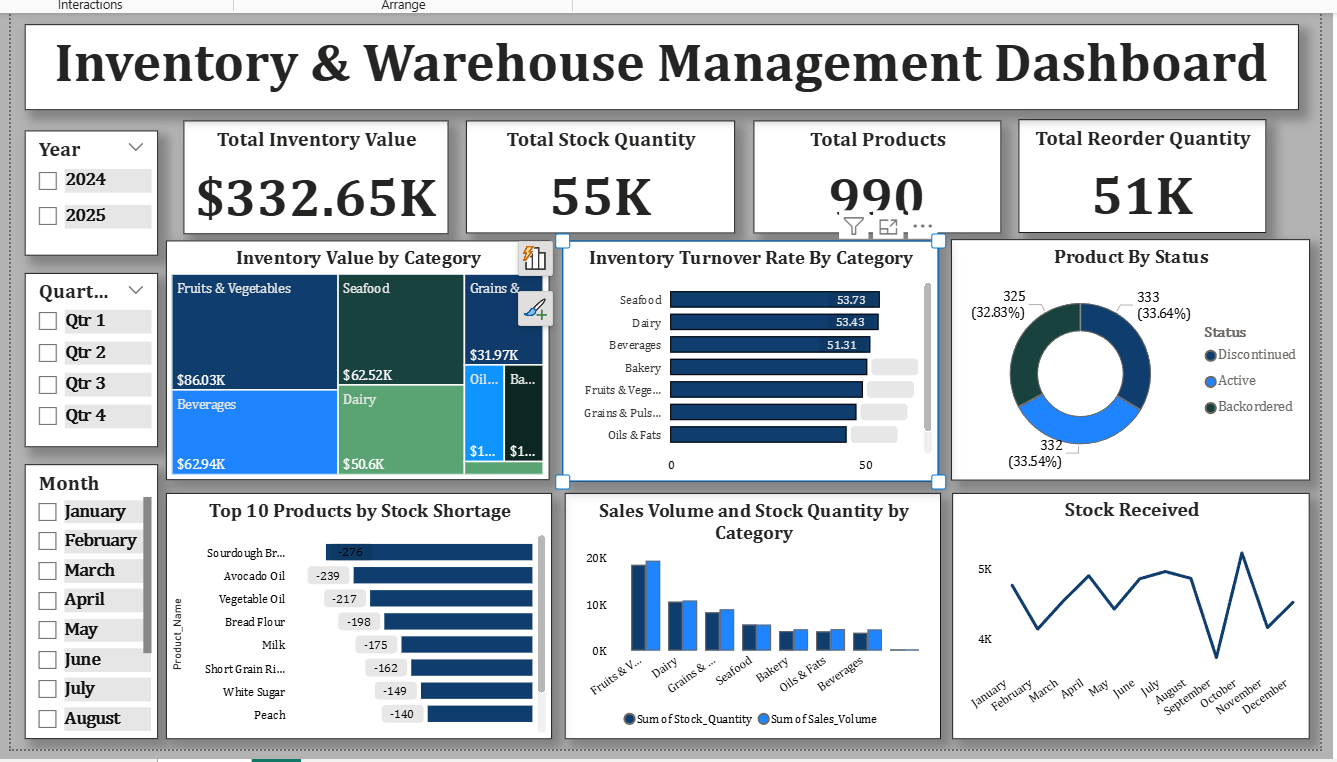

What the dashboard file says about the page in this screenshot:
{"tool":"powerbi","page":{"name":"Page 1","canvas":[1280,720],"ordinal":0},"visuals":[{"type":"card","title":"Total Inventory Value","fields":{"Values":["grocery data.Total Inventory Value 1"]},"box":[168.8,105.2,259.2,111.3],"z":0},{"type":"card","title":"Total Products","fields":{"Values":["grocery data.Total_Products"]},"box":[726,105.2,242.1,110.1],"z":1000},{"type":"card","title":"Total Reorder Quantity","fields":{"Values":["grocery data.Total_Reorder_Quantity"]},"box":[985.6,103.9,242.1,111.3],"z":2000},{"type":"card","title":"Total Stock Quantity","fields":{"Values":["grocery data.Total_Stock_Quantity"]},"box":[445.5,105.2,262.9,110.1],"z":3000},{"type":"textbox","box":[13.5,11,1246.1,84.4],"z":4000},{"type":"slicer","fields":{"Values":["grocery data.Date_Received.Variation.Date Hierarchy.Month"]},"box":[13.8,441.2,130,268.8],"z":5000},{"type":"slicer","fields":{"Values":["grocery data.Date_Received.Variation.Date Hierarchy.Quarter"]},"box":[13.8,254.4,130,170],"z":6000},{"type":"slicer","fields":{"Values":["grocery data.Date_Received.Variation.Date Hierarchy.Year"]},"box":[13.8,115,130,122.5],"z":7000},{"type":"donutChart","title":" Product By Status","fields":{"Category":["grocery data.Status"],"Y":["CountNonNull(grocery data.Product_Name)"]},"box":[919.6,221.3,351,236],"z":8000},{"type":"treemap","title":" Inventory Value by Category","fields":{"Values":["Sum(grocery data.Inventory_Value)"],"Group":["grocery data.Catagory"]},"box":[151.6,222.6,375.4,234.8],"z":9000},{"type":"clusteredColumnChart","title":"Sales Volume and  Stock Quantity by Category","fields":{"Category":["grocery data.Catagory"],"Y":["Sum(grocery data.Stock_Quantity)","Sum(grocery data.Sales_Volume)"]},"box":[541.1,469.6,368.1,240.9],"z":10000},{"type":"barChart","title":" Inventory Turnover Rate By Category","fields":{"Category":["grocery data.Catagory"],"Y":["Avg(grocery data.Inventory_Turnover_Rate)"]},"box":[539.3,222.6,368.1,236],"z":11000},{"type":"clusteredBarChart","title":"Top 10 Products by Stock Shortage","fields":{"Category":["grocery data.Product_Name"],"Y":["grocery data.Stock_Gap"]},"box":[151.6,469.6,377.9,240.9],"z":12000},{"type":"lineChart","title":"Stock Received ","fields":{"Category":["grocery data.Date_Received.Variation.Date Hierarchy.Month"],"Y":["Sum(grocery data.Stock_Quantity)"]},"box":[920.8,469.6,349.7,240.9],"z":13000}]}

Visuals, with their boxes in screenshot pixels (x1, y1, x2, y2):
"Total Inventory Value" card: <box>177,115,444,230</box>
"Total Products" card: <box>751,115,1001,229</box>
"Total Reorder Quantity" card: <box>1019,114,1268,229</box>
"Total Stock Quantity" card: <box>462,115,733,229</box>
textbox: <box>17,18,1301,105</box>
slicer - grocery data.Date_Received.Variation.Date Hierarchy.Month: <box>18,461,152,738</box>
slicer - grocery data.Date_Received.Variation.Date Hierarchy.Quarter: <box>18,269,152,444</box>
slicer - grocery data.Date_Received.Variation.Date Hierarchy.Year: <box>18,125,152,252</box>
" Product By Status" donutChart: <box>951,235,1312,478</box>
" Inventory Value by Category" treemap: <box>160,236,546,478</box>
"Sales Volume and  Stock Quantity by Category" clusteredColumnChart: <box>561,491,940,739</box>
" Inventory Turnover Rate By Category" barChart: <box>559,236,938,479</box>
"Top 10 Products by Stock Shortage" clusteredBarChart: <box>160,491,549,739</box>
"Stock Received " lineChart: <box>952,491,1312,739</box>
